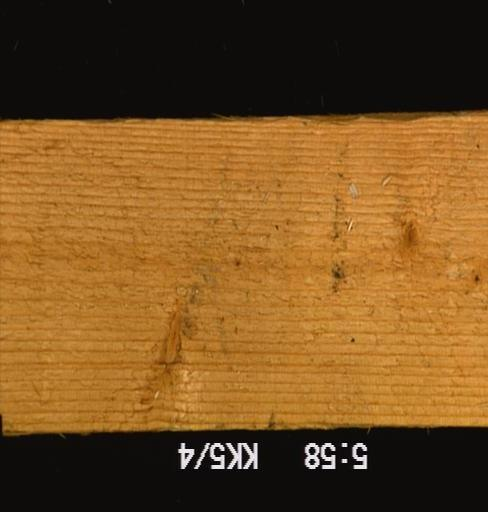small_knot: (387, 211, 426, 272), (468, 270, 486, 289), (229, 254, 246, 274)
